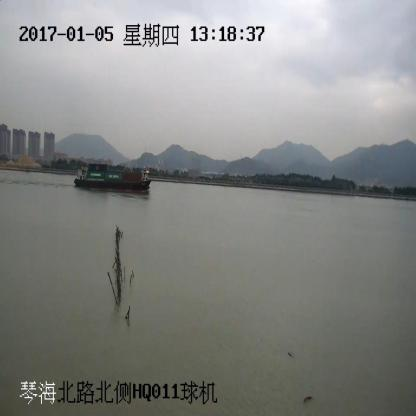Container Ship: (74, 164, 152, 192)
